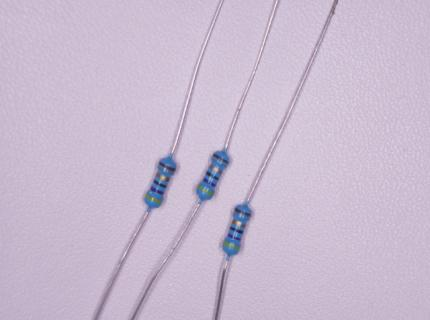Gold band: (209, 164, 223, 175), (156, 172, 170, 182), (232, 219, 245, 228)
Violet band: (202, 177, 216, 188), (150, 186, 164, 195), (227, 233, 241, 241)
Yellow band: (197, 185, 213, 196), (145, 195, 163, 204), (223, 241, 240, 250)
